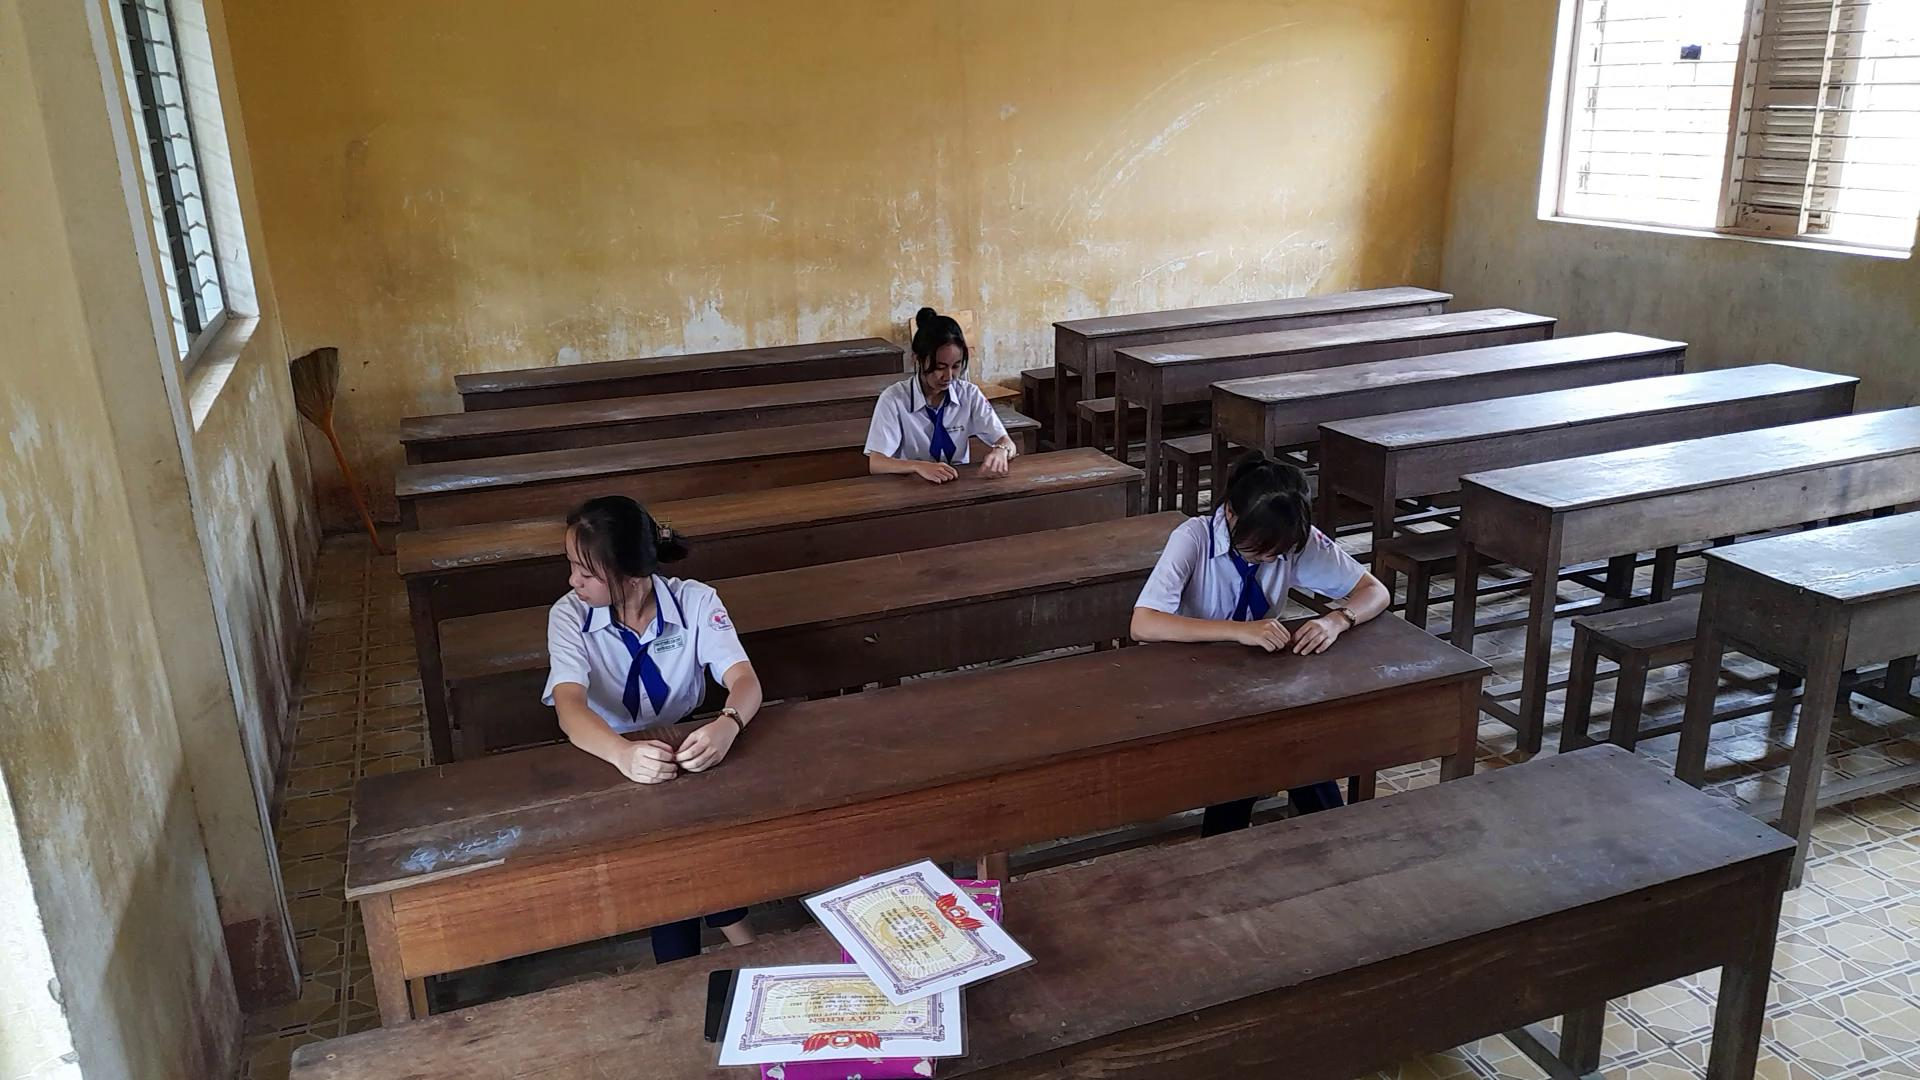Bend Over The Desk: (1185, 439, 1325, 574), (869, 280, 1007, 414)
Look Around: (522, 479, 698, 612)
